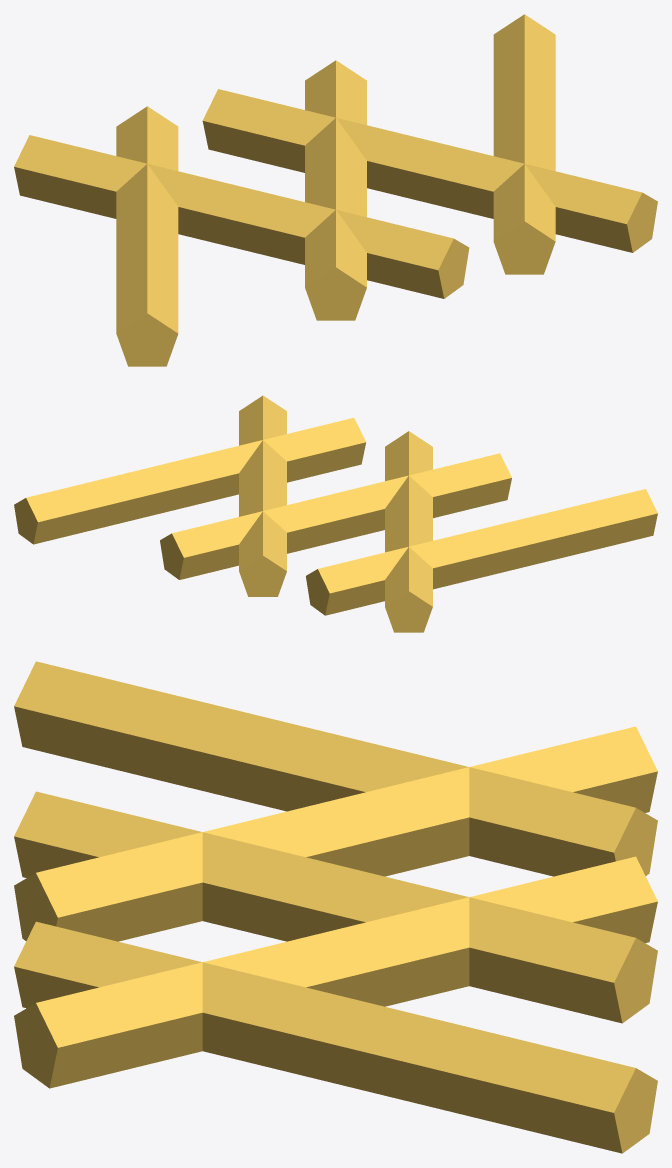
The model's file is TopHoney.fbx.
The picture shows the model from 3 angles, top to bottom: view 1: azimuth 30°, elevation 25°; view 2: azimuth 150°, elevation 25°; view 3: azimuth 270°, elevation 25°; orthographic projection. The views are drawn at different scales.
Visible parts, largest first — view 1: TopHoney; view 2: TopHoney; view 3: TopHoney.
Part boxes in pixels (bbox=[...]): TopHoney: bbox=[14, 14, 657, 366]; TopHoney: bbox=[14, 395, 657, 632]; TopHoney: bbox=[14, 661, 657, 1153].
Bounding box in the file's own units: 0.1349 × 0.0109 × 0.0836.
